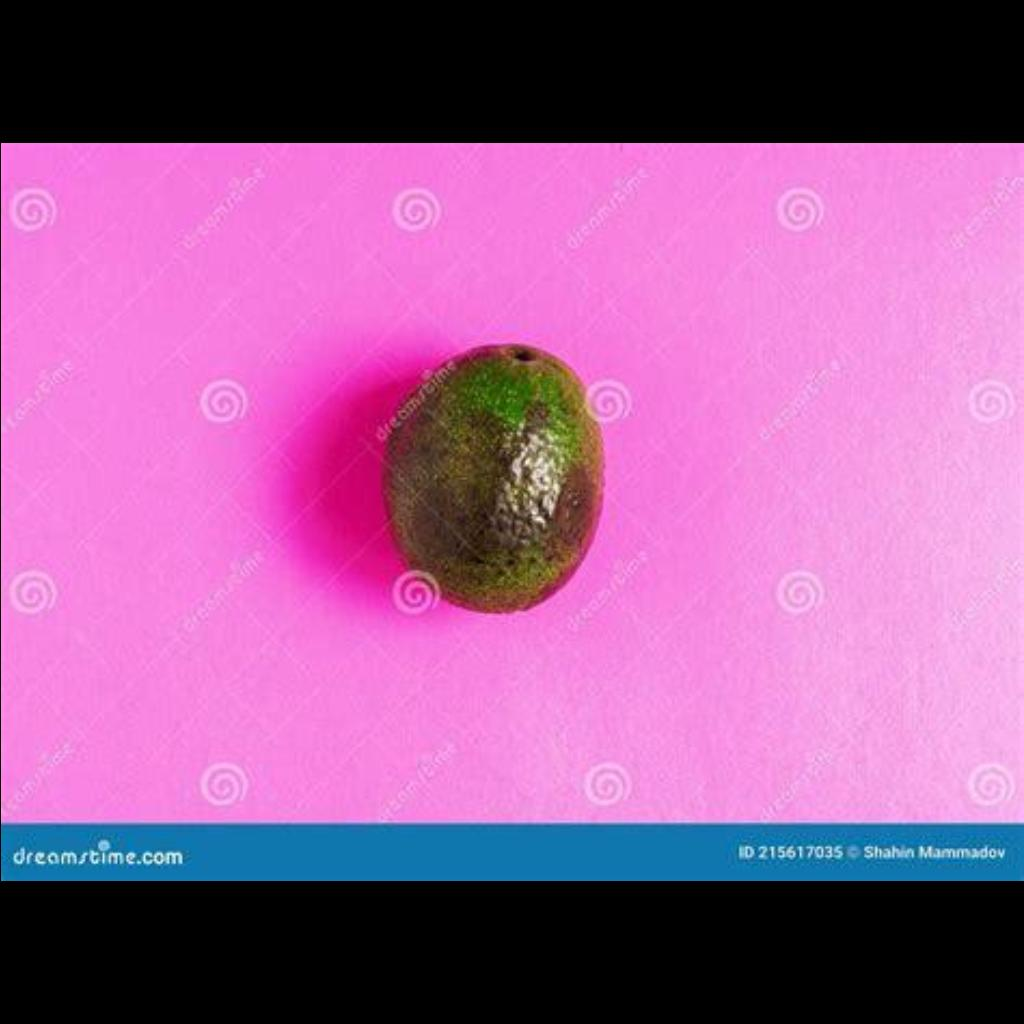antracnosis_fruto: (382, 324, 610, 608)
